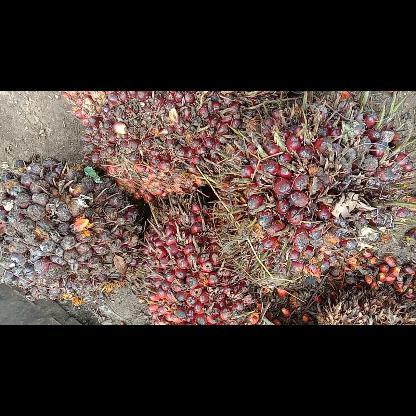Kurang masak: (0, 154, 147, 309)
TBS masak: (206, 98, 414, 288), (58, 90, 272, 206), (135, 196, 269, 324)
